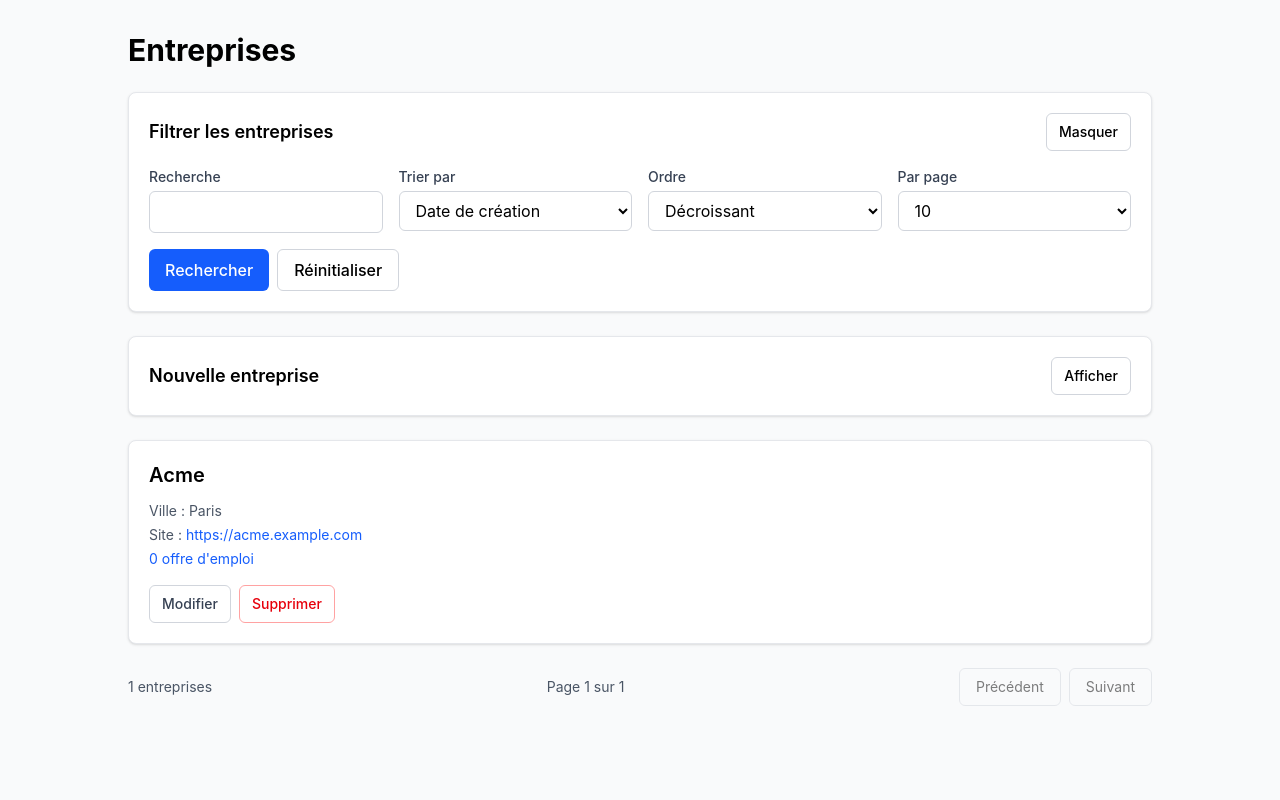
Test case: CompaniesPage › shows the current deletion error after a 409 conflict
Click the button "Supprimer" at point(287, 604), box [239,585,335,623]
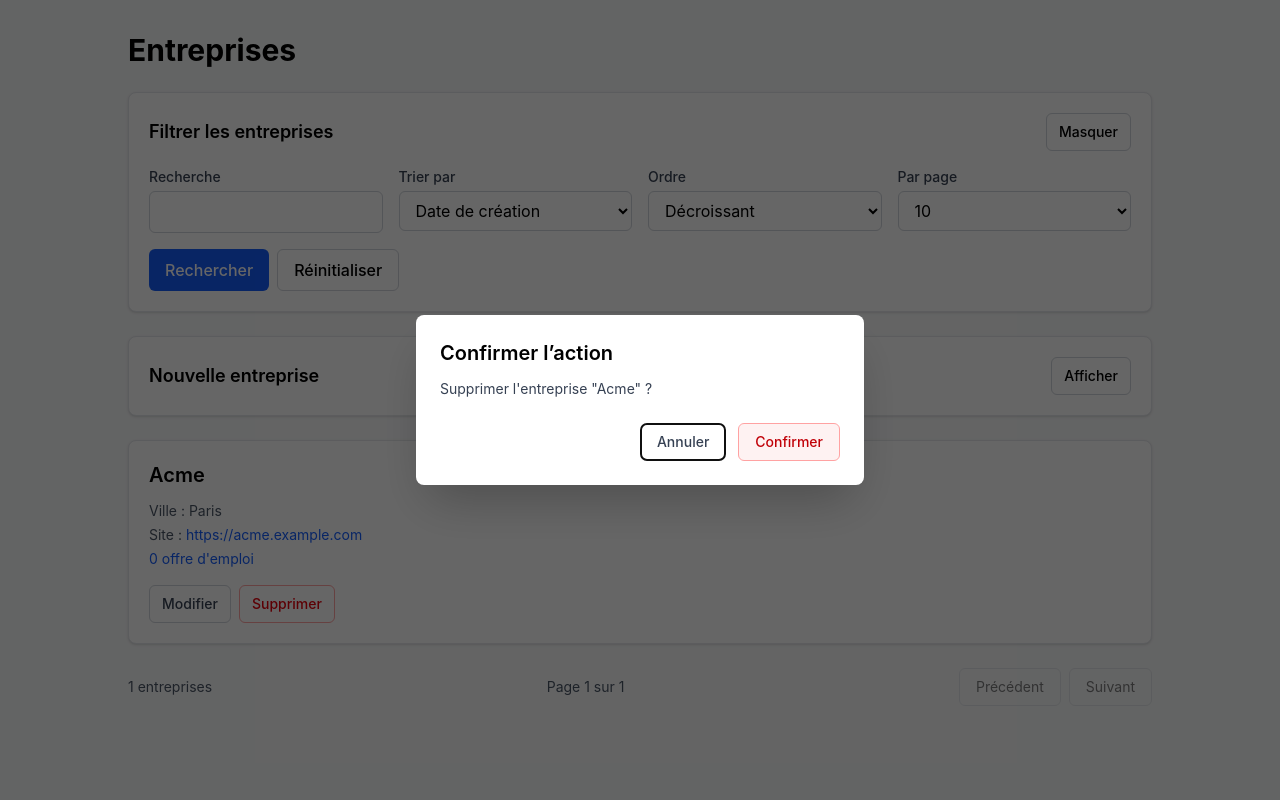
Click the button "Confirmer" at point(789, 442), box [738,423,840,461]
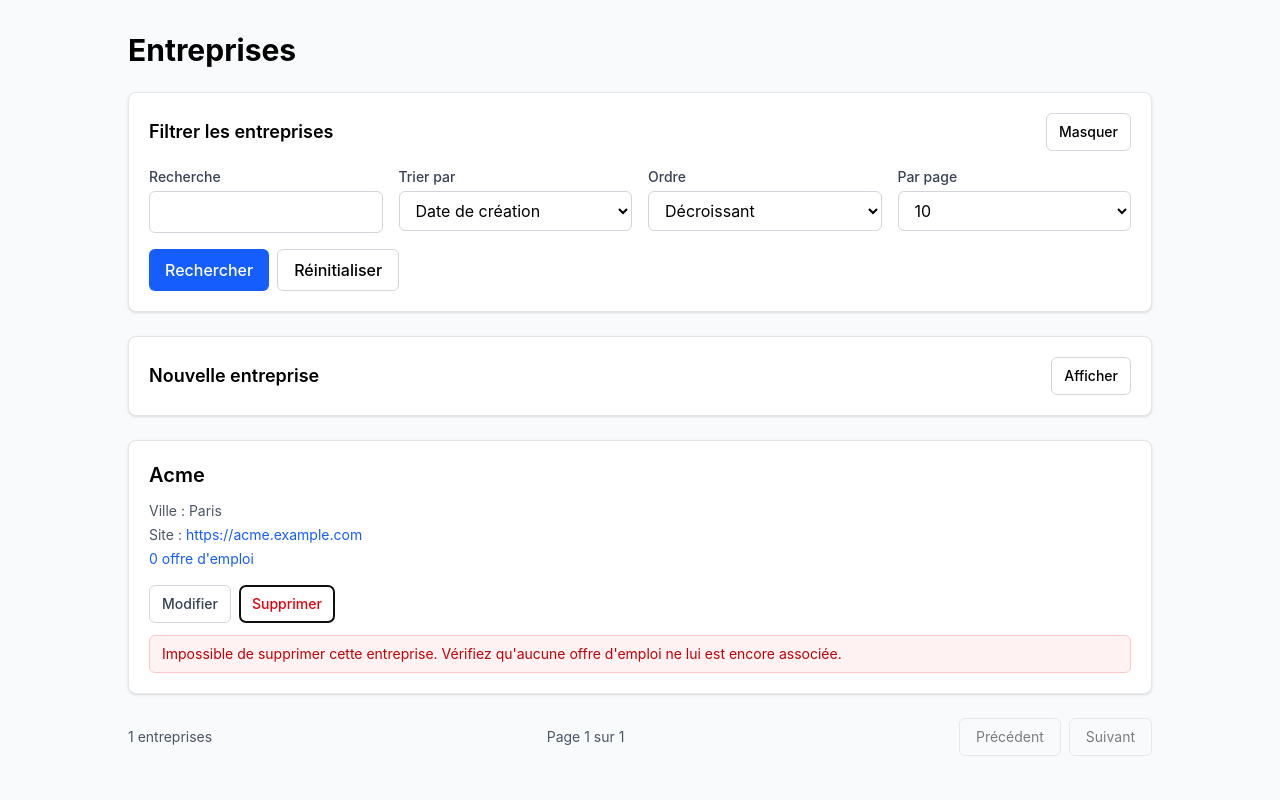
Expected: the heading "Acme" is shown, [149,463,205,487]
Now the message shows "Impossible de supprimer cette entreprise. Vérifiez qu'aucune offre d'emploi ne lui est encore associée.", box [162,645,842,662]
